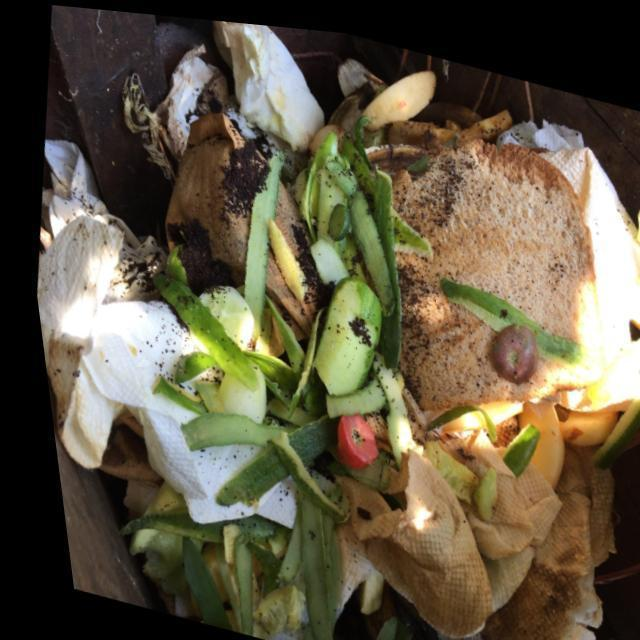Garbage: (29, 16, 640, 640)
